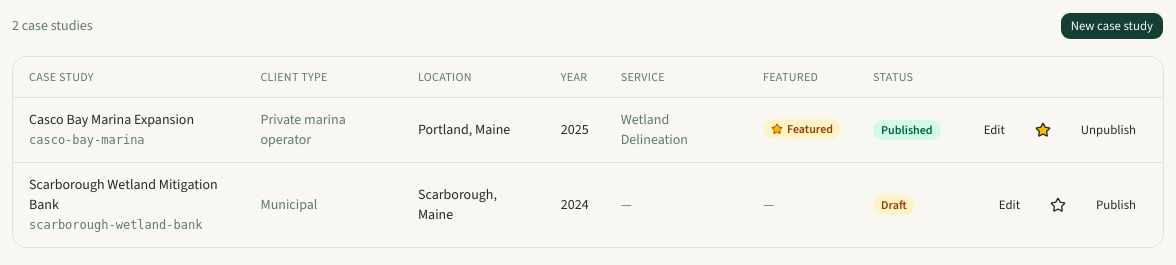
Test: ProjectsTable toggles › flips featured optimistically, writes, and revalidates
The image size is (1176, 265).
Click the button named "Feature Scarborough Wetland Mitigation Bank": (1058, 205) top-left (1039, 191), bottom-right (1077, 219)
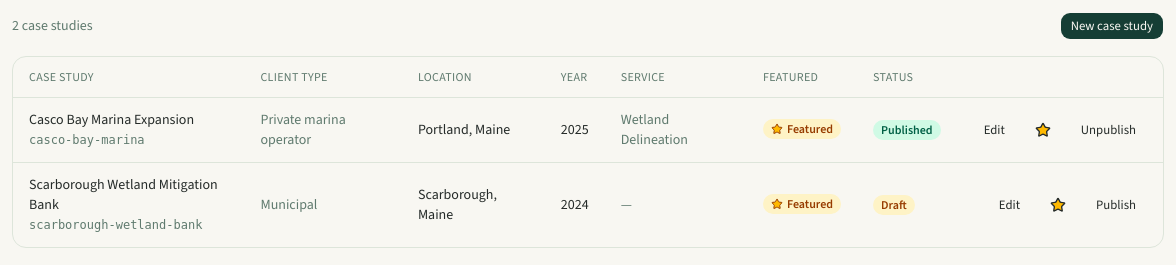
Now the text "Featured" in the row of "Municipal" is shown, box top-left (787, 196), bottom-right (833, 212)
Now the button named "Unfeature Scarborough Wetland Mitigation Bank" is shown, box top-left (1039, 191), bottom-right (1077, 219)
